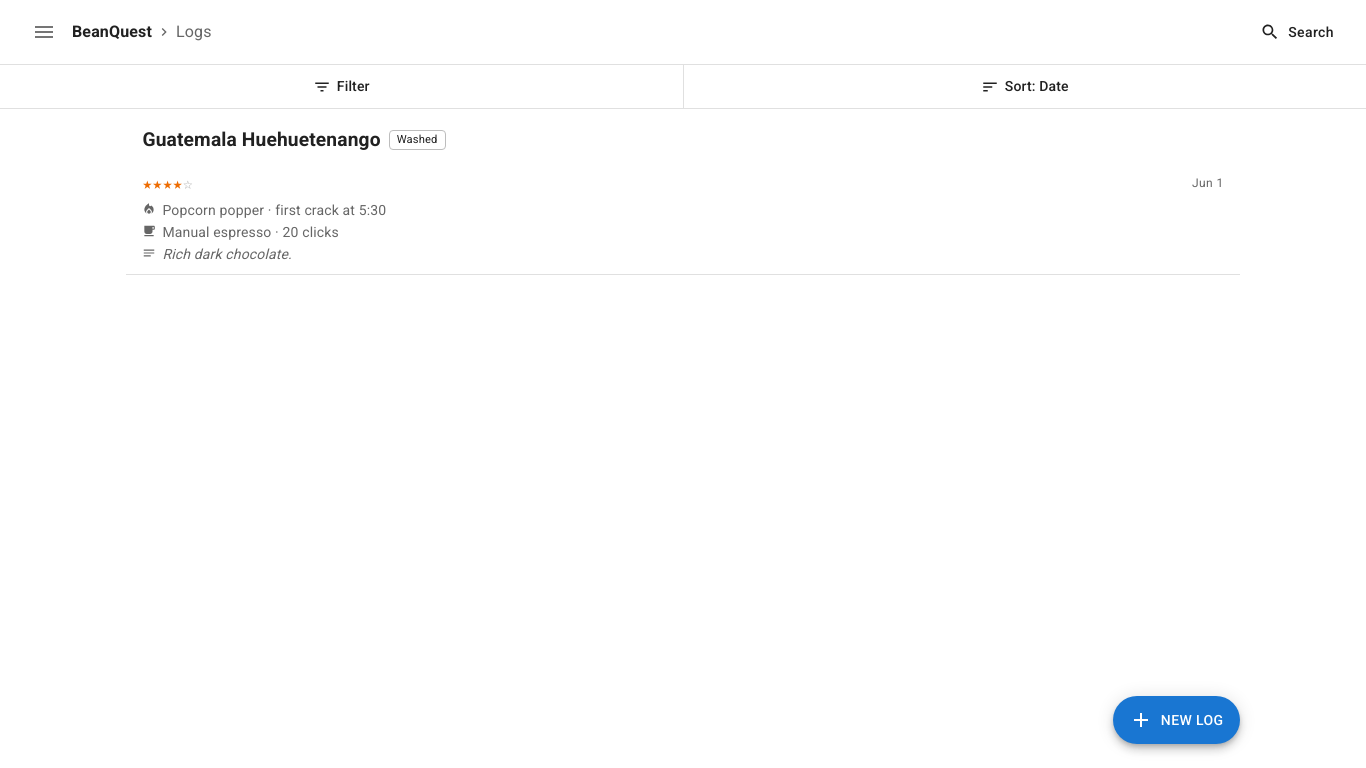
Scenario: LogsPage › hides the FAB while the form or detail panel is open
Expected: the heading "Guatemala Huehuetenango" is shown, x1=142 y1=125 x2=381 y2=156
Expected: the button labelled "New log" is shown, x1=1113 y1=696 x2=1240 y2=744
Click the text "20 clicks": (251, 232) x1=162 y1=222 x2=339 y2=242
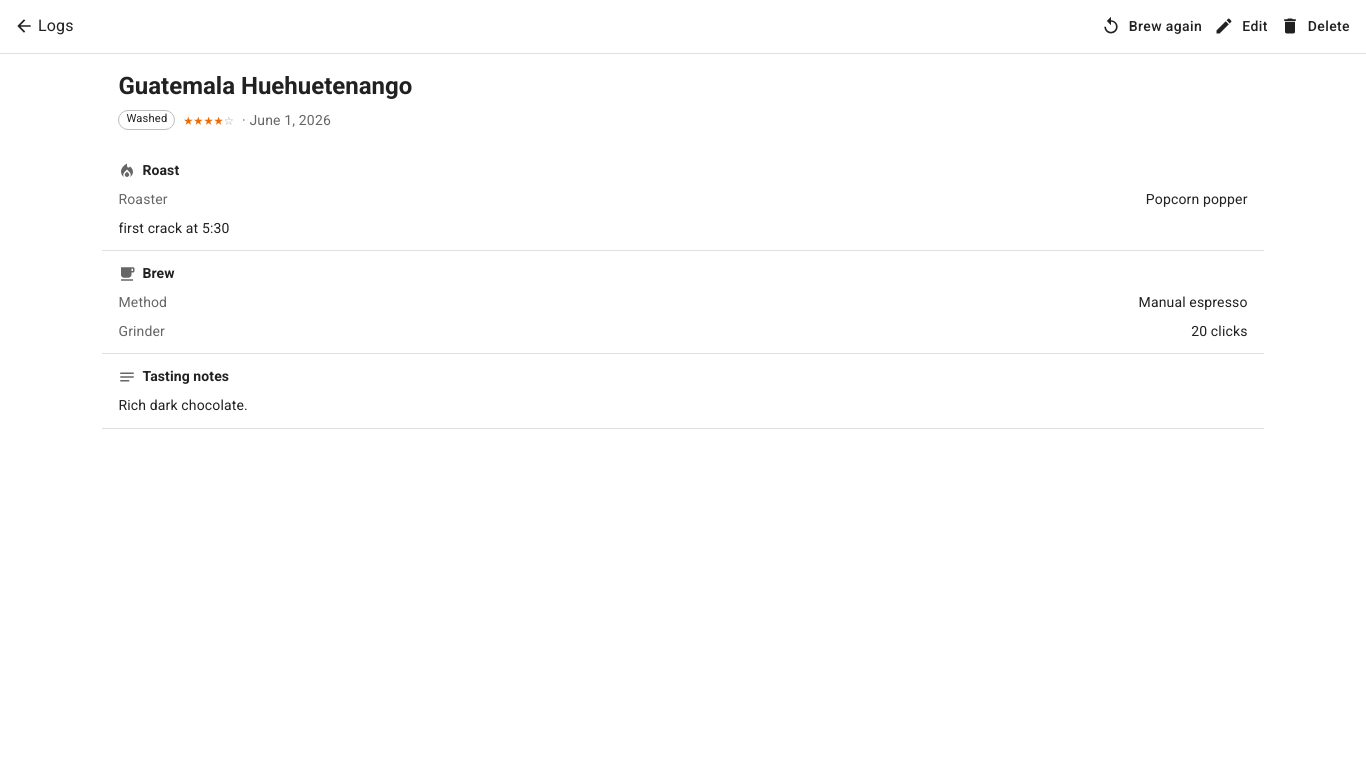
Now the button labelled "New log" is gone
